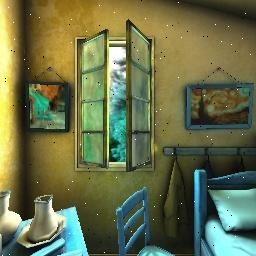bed: (187, 159, 256, 256)
chair: (105, 190, 181, 256)
